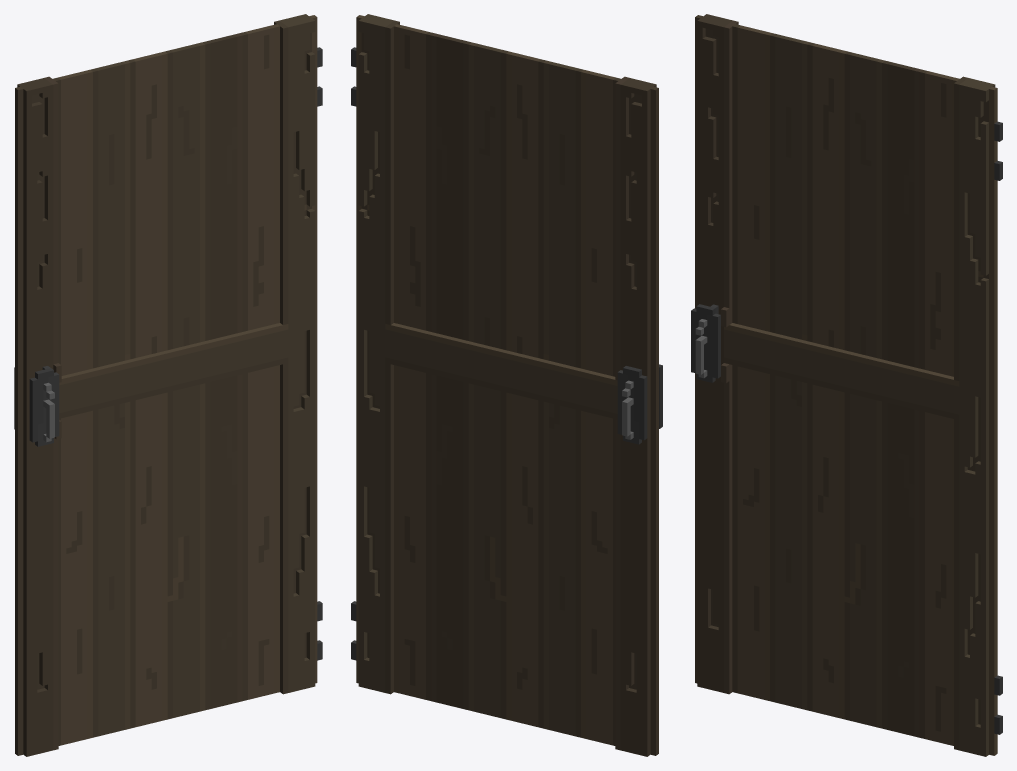
File: WoodDoor-1-Wooden Door.obj
3 renders of one model, left to right at view 1: azimuth 30°, elevation 25°; view 2: azimuth 150°, elevation 25°; view 3: azimuth 330°, elevation 25°, orthographic.
Parts seen in each view (by area): view 1: Wooden Door; view 2: Wooden Door; view 3: Wooden Door.
Part boxes in pixels (x1,y1,x2,y2): Wooden Door: (14,14,322,756); Wooden Door: (351,14,662,756); Wooden Door: (691,14,1002,756).
Size of the model in its own units: 5.7 by 11.9 by 1.
